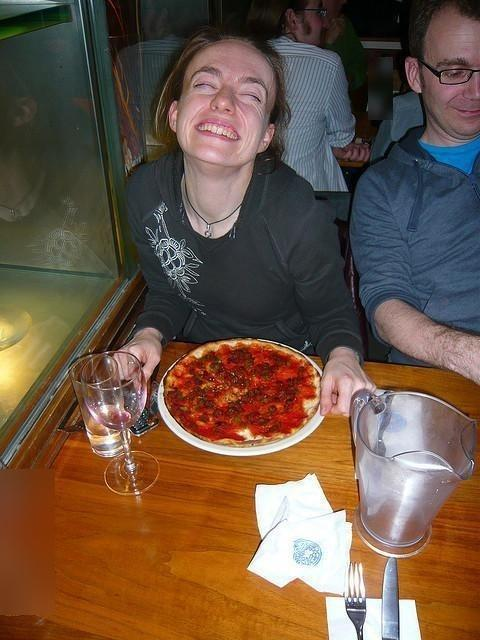glass-normal: (70, 356, 127, 456)
glass-wine: (69, 352, 158, 495)
